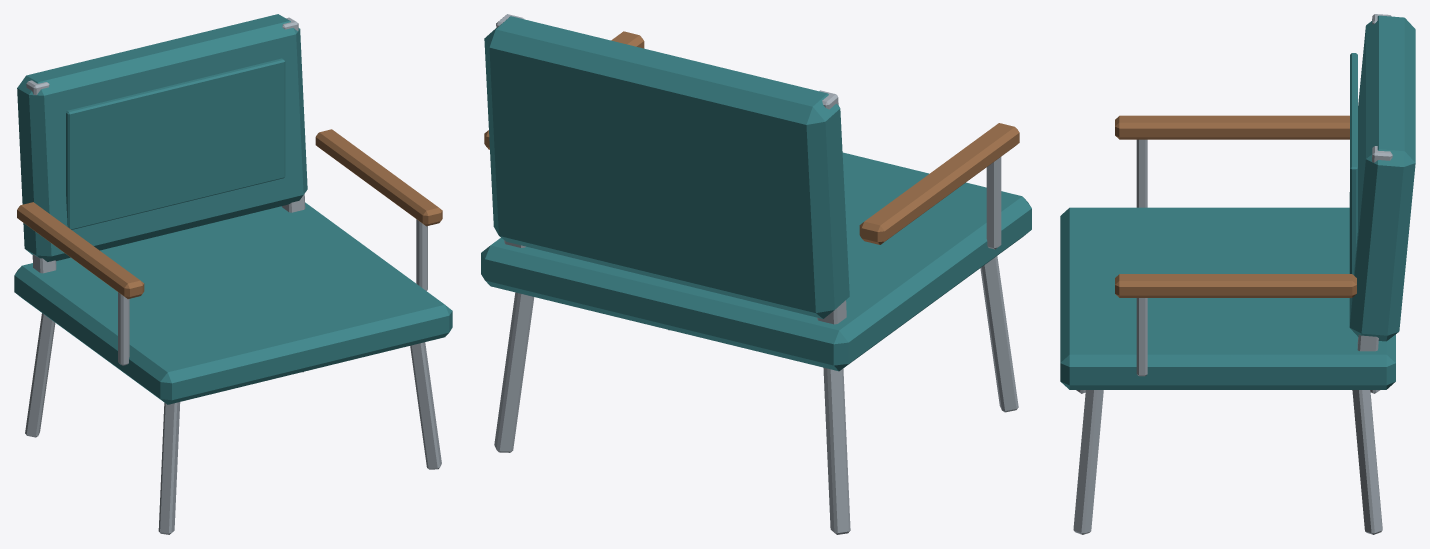
File: Chair_03_Elegant.fbx
3 views of the same model, side by side, from view 1: azimuth 30°, elevation 25°; view 2: azimuth 150°, elevation 25°; view 3: azimuth 270°, elevation 25° (orthographic). The views are drawn at different scales.
Visible parts, largest first — view 1: Chair_03_Elegant; view 2: Chair_03_Elegant; view 3: Chair_03_Elegant.
Boxes of the visible parts, x1,y1,x2,y2 form: Chair_03_Elegant: [14, 14, 452, 534]; Chair_03_Elegant: [481, 14, 1031, 534]; Chair_03_Elegant: [1060, 14, 1415, 534].
Bounding box in the file's own units: 256 × 268 × 228.
